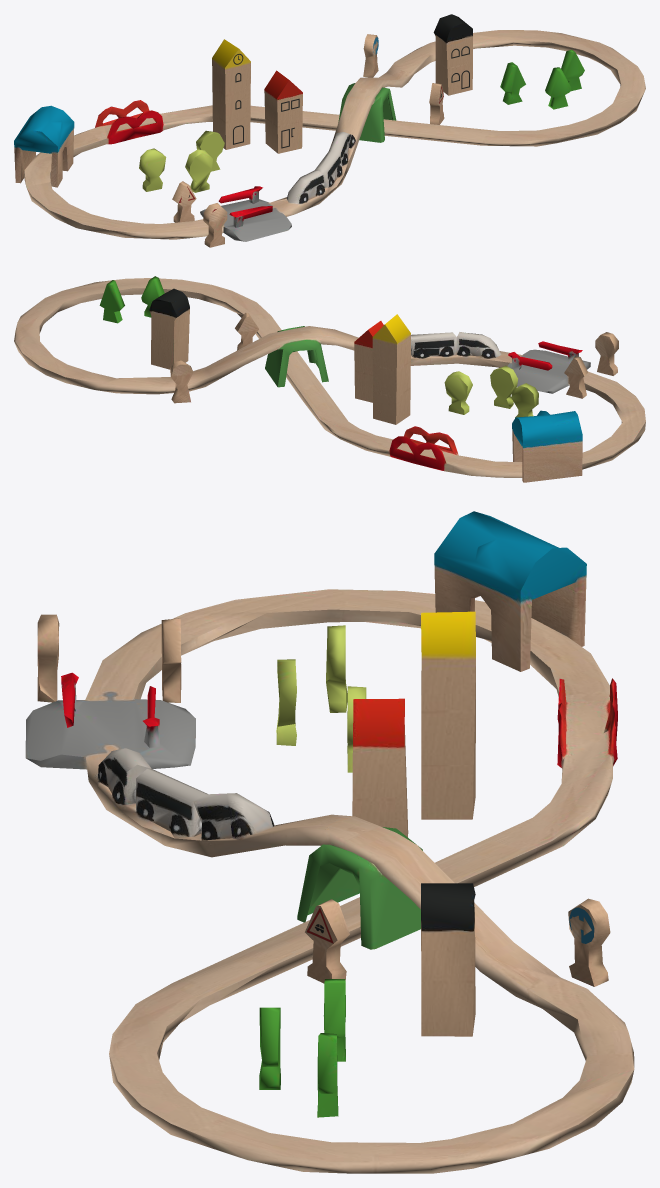
Rendered from lillabo_45_czesciowy_zestaw_pociag_i_tory_20330066.glb.
The picture shows the model from 3 angles, top to bottom: view 1: azimuth 30°, elevation 25°; view 2: azimuth 150°, elevation 25°; view 3: azimuth 270°, elevation 25°; orthographic projection. The views are drawn at different scales.
Parts seen in each view (by area): view 1: lillabo_45_czesciowy_zestaw_pociag_i_tory_20330066; view 2: lillabo_45_czesciowy_zestaw_pociag_i_tory_20330066; view 3: lillabo_45_czesciowy_zestaw_pociag_i_tory_20330066.
Boxes of the visible parts, box(x1,y1,x2,y2) form: lillabo_45_czesciowy_zestaw_pociag_i_tory_20330066: box(14, 14, 645, 247); lillabo_45_czesciowy_zestaw_pociag_i_tory_20330066: box(14, 276, 645, 482); lillabo_45_czesciowy_zestaw_pociag_i_tory_20330066: box(25, 511, 634, 1173).
Size of the model in its own units: 1.14 by 0.1827 by 0.5083.
2 materials, 2 textured.
